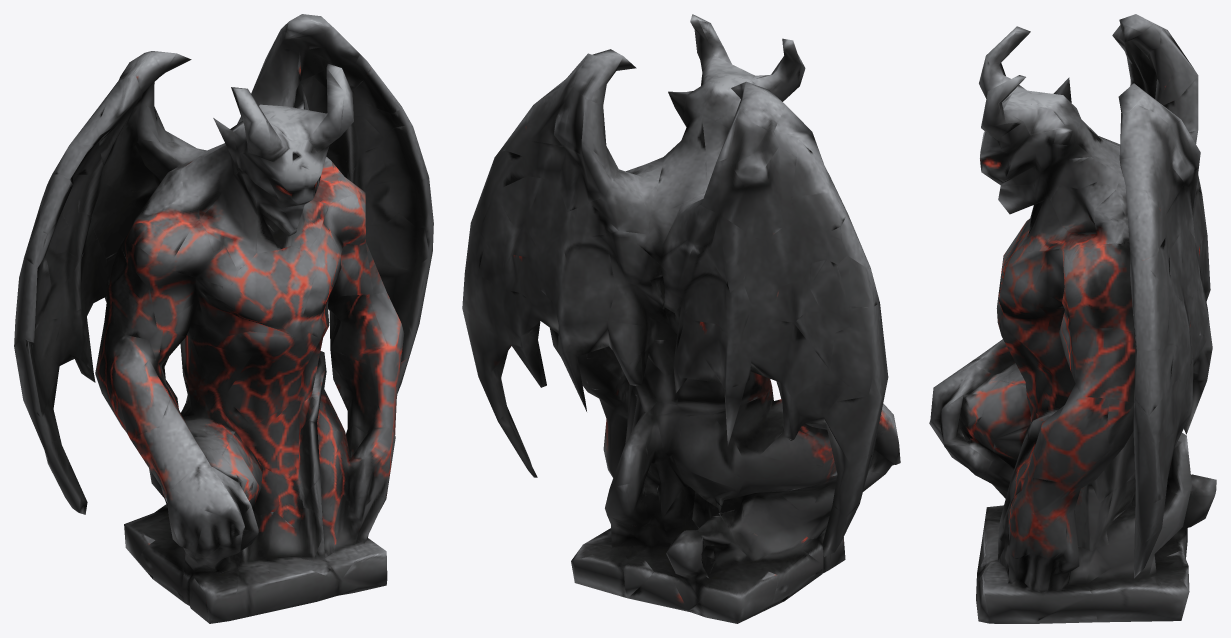
Rendered from ritual_demon_statue.glb.
3 renders of one model, left to right at view 1: azimuth 30°, elevation 25°; view 2: azimuth 150°, elevation 25°; view 3: azimuth 270°, elevation 25°, orthographic. The views are drawn at different scales.
Size of the model in its own units: 1.68 by 2 by 0.9823.
Materials: 1 (1 with a texture image).
